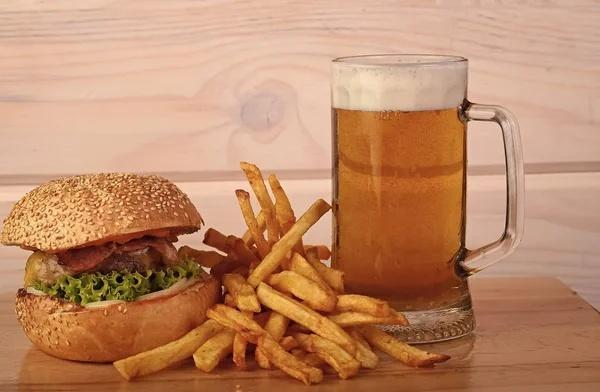glass-mug: (325, 48, 530, 334)
